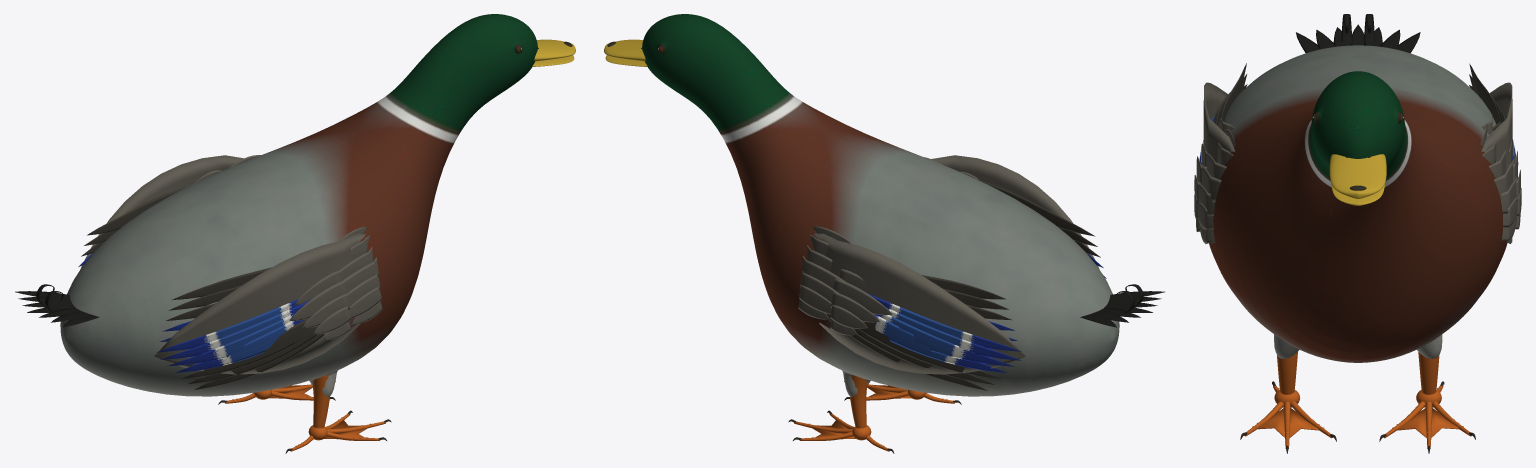
Rendered from mallard.glb.
3 views of the same model, side by side, from view 1: azimuth 30°, elevation 25°; view 2: azimuth 150°, elevation 25°; view 3: azimuth 270°, elevation 25° (orthographic). The views are drawn at different scales.
Parts seen in each view (by area): view 1: Continuous anatomical skin | duck_mallard, Cambered folded wing foundation, Overlapping closed flight feather 00, Overlapping closed flight feather 03, Mallard small curled flattened central tail vane, Articulated bird toe 0, Broad rounded upper waterfowl bill, Articulated bird toe 0.001, Articulated tibiotarsus hock and tarsometatarsus; view 2: Continuous anatomical skin | duck_mallard, Cambered folded wing foundation, Overlapping closed flight feather 03, Overlapping closed flight feather 00, Mallard small curled flattened central tail vane, Articulated bird toe 0.001, Broad rounded upper waterfowl bill, Articulated bird toe 0, Articulated tibiotarsus hock and tarsometatarsus.001; view 3: Continuous anatomical skin | duck_mallard, Cambered folded wing foundation, Broad rounded upper waterfowl bill, Mallard small curled flattened central tail vane, Articulated bird toe 0, Articulated bird toe 0.001, Overlapping closed flight feather 00, Articulated tibiotarsus hock and tarsometatarsus.001, Articulated tibiotarsus hock and tarsometatarsus.
Part boxes in pixels (x1=…): Continuous anatomical skin | duck_mallard: x1=60, y1=14, x2=537, y2=396; Cambered folded wing foundation: x1=80, y1=155, x2=382, y2=374; Overlapping closed flight feather 00: x1=81, y1=187, x2=324, y2=389; Overlapping closed flight feather 03: x1=78, y1=253, x2=310, y2=372; Mallard small curled flattened central tail vane: x1=15, y1=284, x2=99, y2=327; Articulated bird toe 0: x1=290, y1=414, x2=385, y2=451; Broad rounded upper waterfowl bill: x1=532, y1=39, x2=575, y2=66; Articulated bird toe 0.001: x1=225, y1=384, x2=313, y2=403; Articulated tibiotarsus hock and tarsometatarsus: x1=312, y1=375, x2=329, y2=428; Continuous anatomical skin | duck_mallard: x1=642, y1=14, x2=1119, y2=396; Cambered folded wing foundation: x1=798, y1=155, x2=1099, y2=374; Overlapping closed flight feather 03: x1=867, y1=253, x2=1106, y2=372; Overlapping closed flight feather 00: x1=829, y1=179, x2=1100, y2=390; Mallard small curled flattened central tail vane: x1=1080, y1=284, x2=1164, y2=327; Articulated bird toe 0.001: x1=794, y1=414, x2=889, y2=451; Broad rounded upper waterfowl bill: x1=604, y1=39, x2=647, y2=66; Articulated bird toe 0: x1=866, y1=384, x2=954, y2=403; Articulated tibiotarsus hock and tarsometatarsus.001: x1=850, y1=375, x2=867, y2=428; Continuous anatomical skin | duck_mallard: x1=1209, y1=45, x2=1507, y2=362; Cambered folded wing foundation: x1=1194, y1=82, x2=1521, y2=243; Broad rounded upper waterfowl bill: x1=1329, y1=154, x2=1386, y2=205; Mallard small curled flattened central tail vane: x1=1296, y1=14, x2=1420, y2=53; Articulated bird toe 0: x1=1244, y1=385, x2=1332, y2=448; Articulated bird toe 0.001: x1=1383, y1=385, x2=1471, y2=448; Overlapping closed flight feather 00: x1=1212, y1=63, x2=1505, y2=130; Articulated tibiotarsus hock and tarsometatarsus.001: x1=1418, y1=352, x2=1439, y2=394; Articulated tibiotarsus hock and tarsometatarsus: x1=1277, y1=352, x2=1297, y2=394.
Size of the model in its own units: 0.57 by 0.3518 by 0.2311.
Materials: 15 (15 with a texture image).
